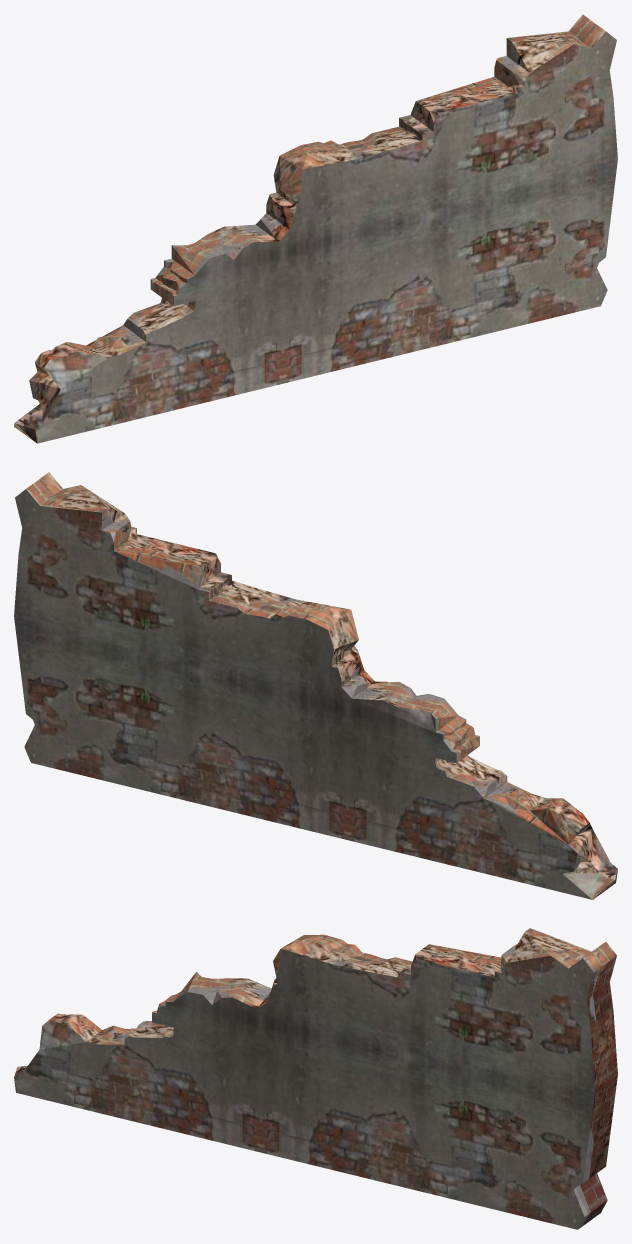
File: Brick_Wall_4.fbx
3 renders of one model, top to bottom at view 1: azimuth 30°, elevation 25°; view 2: azimuth 150°, elevation 25°; view 3: azimuth 330°, elevation 25°, orthographic.
Parts seen in each view (by area): view 1: wall.003; view 2: wall.003; view 3: wall.003.
Boxes of the visible parts, x1,y1,x2,y2 form: wall.003: [14, 14, 617, 443]; wall.003: [14, 472, 617, 899]; wall.003: [14, 928, 617, 1229].
Bounding box in the file's own units: 459 × 203 × 31.24.
